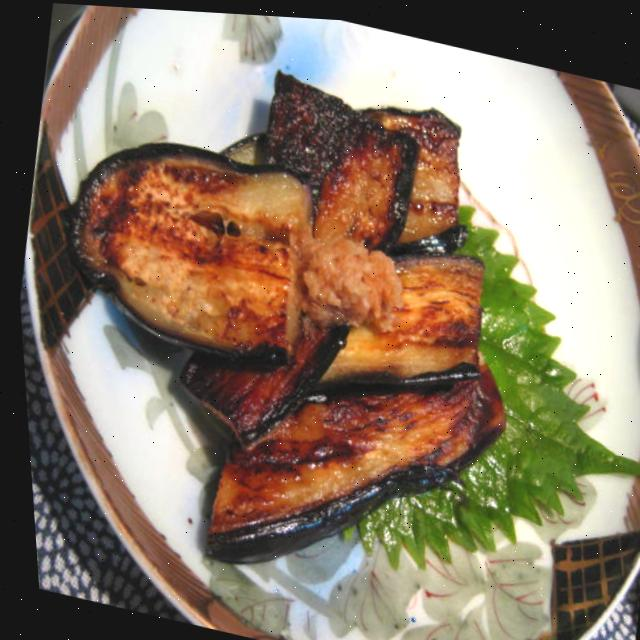鸡蛋料理: (0, 0, 569, 632)
